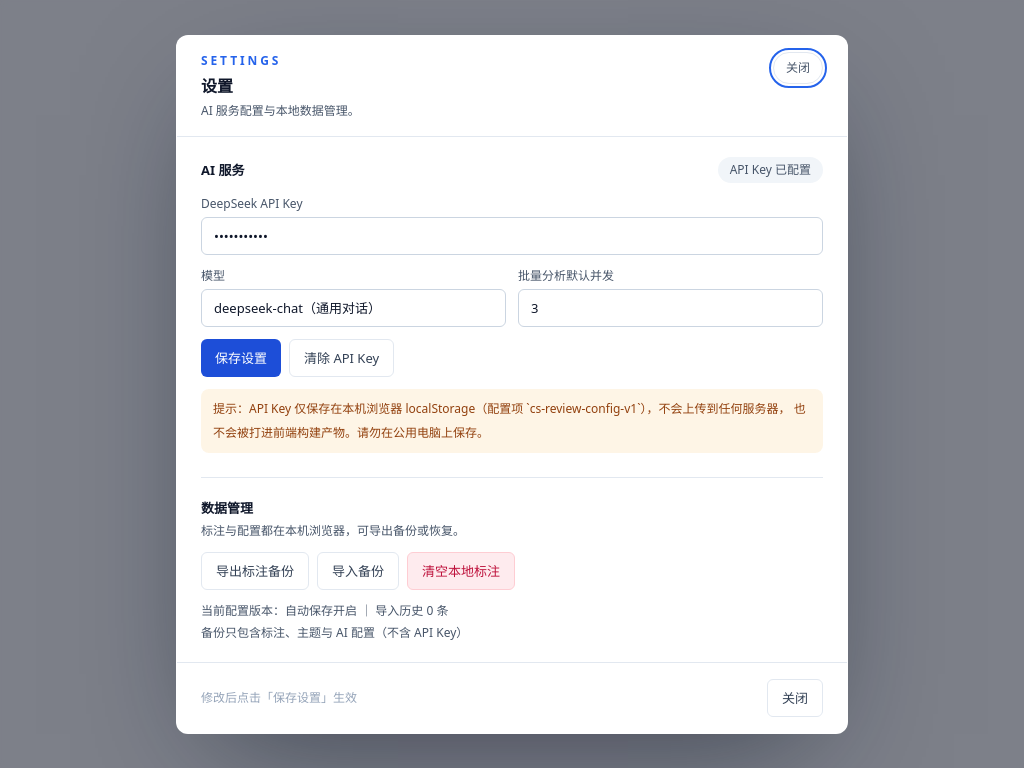
Test: SettingsPanel 数据管理 › 导出标注备份 → 触发 JSON 下载
This screenshot has width=1024, height=768.
Click the button "导出标注备份".
click(255, 570)  # box [201,552,309,590]
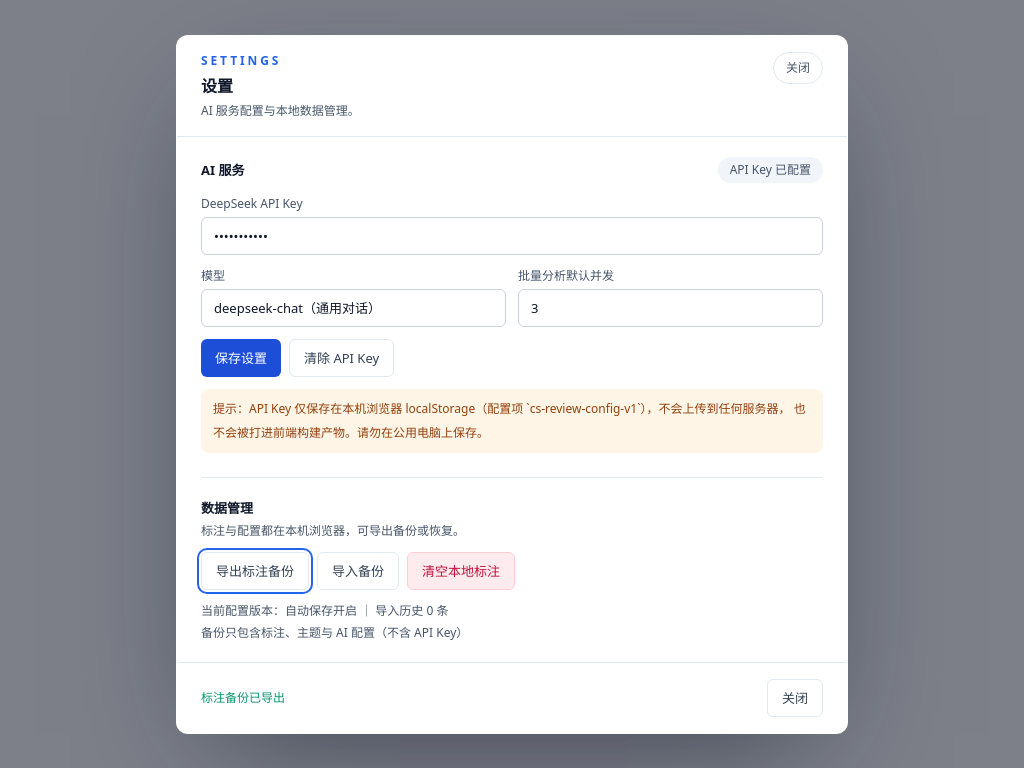
Expected: the text "标注备份已导出" is shown, [201,688,285,706]
